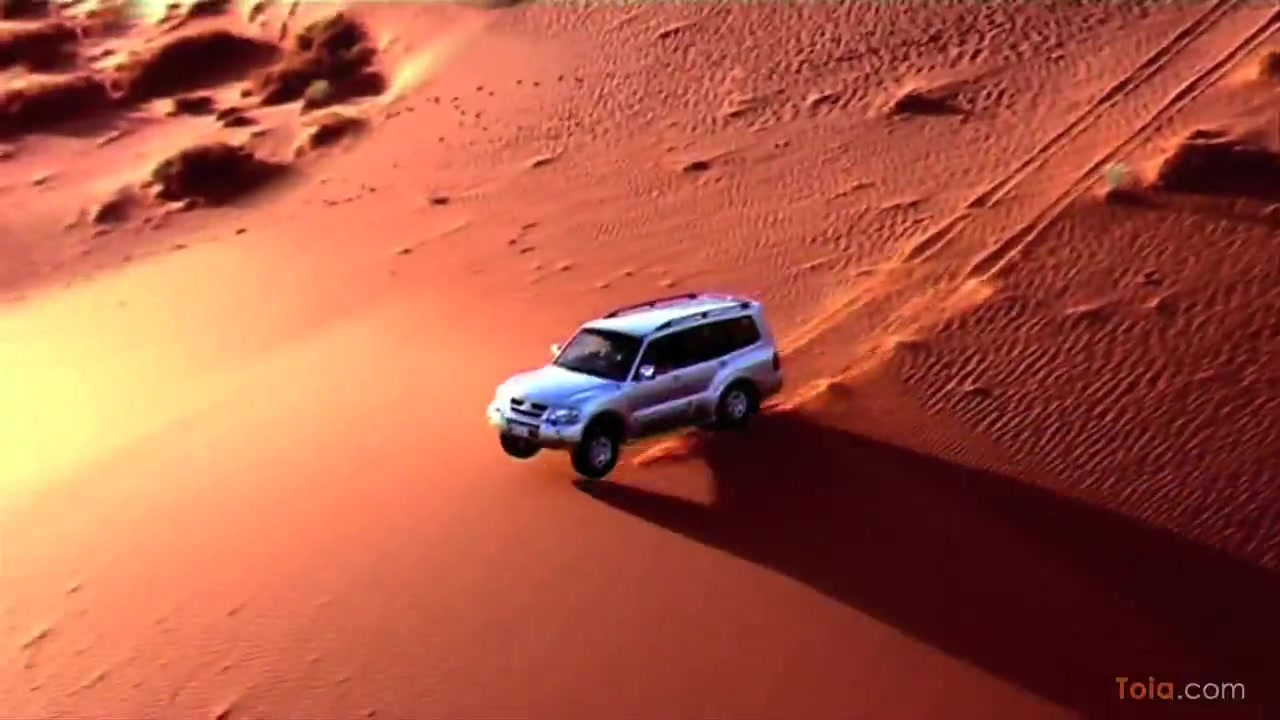car: (486, 288, 791, 480)
